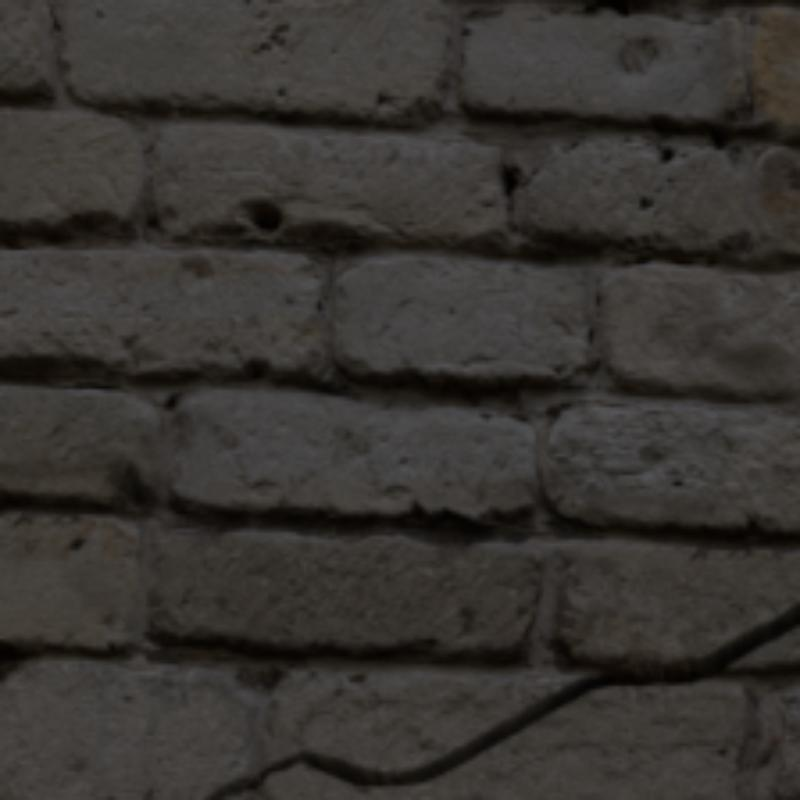pothole: (207, 604, 796, 796)
